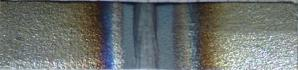soldas: (73, 0, 231, 69)
